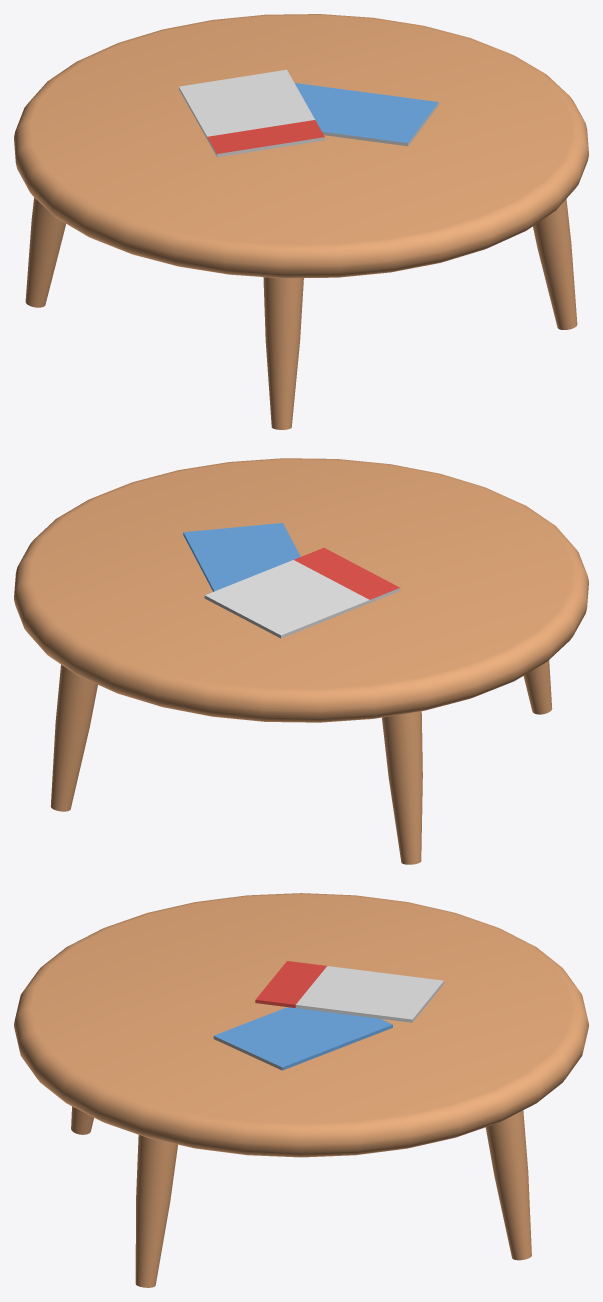
Rendered from 02_Table.fbx.
3 views of the same model, one above another, from view 1: azimuth 30°, elevation 25°; view 2: azimuth 150°, elevation 25°; view 3: azimuth 270°, elevation 25° (orthographic).
Parts seen in each view (by area): view 1: 02_Table, Plane.011, Plane.012; view 2: 02_Table, Plane.011, Plane.012; view 3: 02_Table, Plane.011, Plane.012.
Part boxes in pixels (<box>): 02_Table: <box>14,14,588,429</box>; Plane.011: <box>179,69,325,157</box>; Plane.012: <box>295,83,438,146</box>; 02_Table: <box>14,458,588,864</box>; Plane.011: <box>204,548,400,638</box>; Plane.012: <box>183,523,300,591</box>; 02_Table: <box>14,893,588,1287</box>; Plane.011: <box>255,961,443,1022</box>; Plane.012: <box>213,1007,392,1070</box>.
Bounding box in the file's own units: 55.84 × 20.89 × 55.84.
